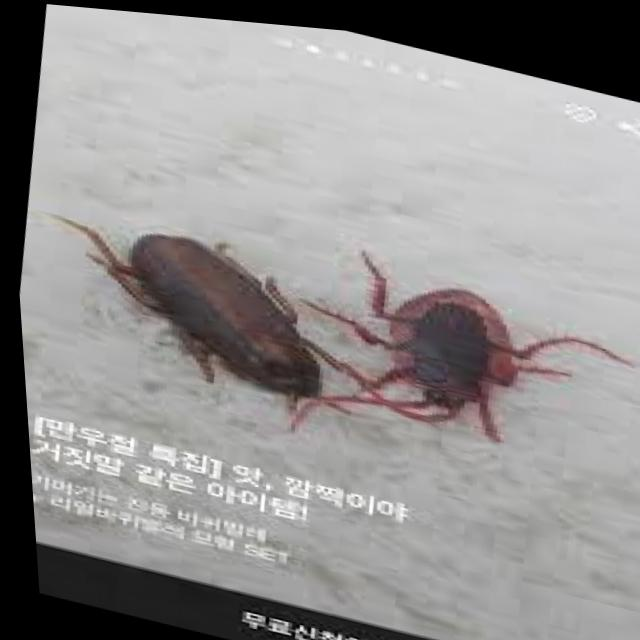Cockroach: (251, 204, 640, 512), (20, 177, 397, 439)
